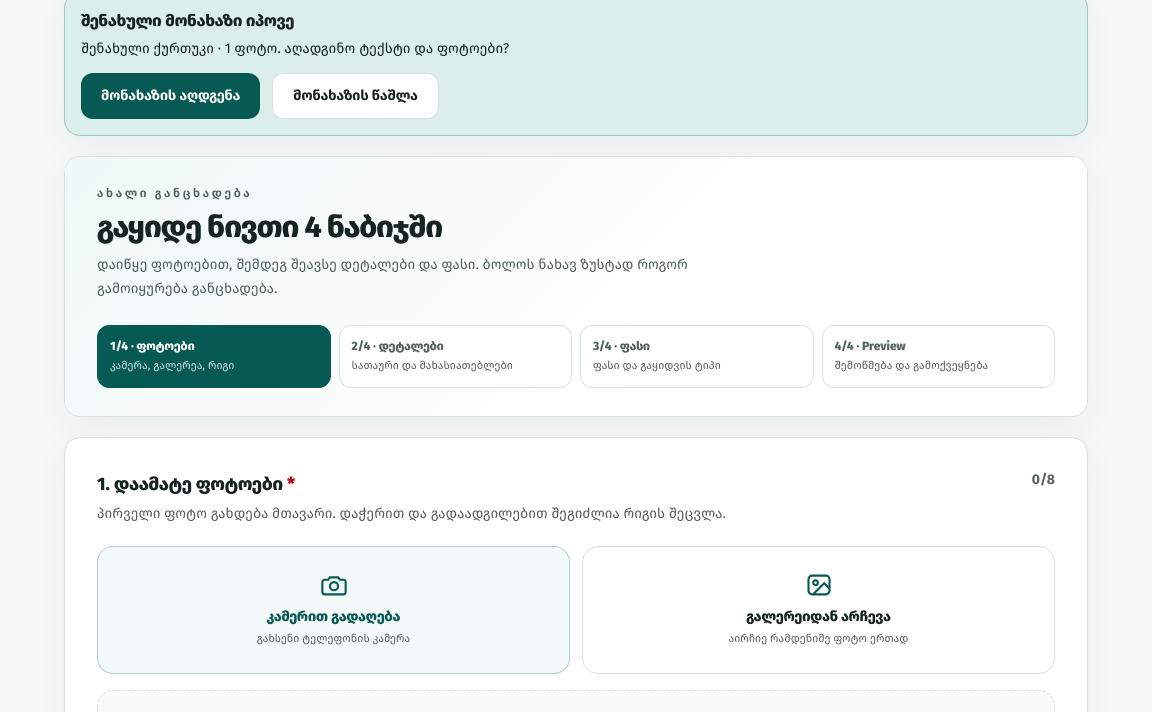
asks before restoration and restores the selected photo and text without publishing
Click the button "მონახაზის აღდგენა" at {"x": 171, "y": 96}, box [81,73,260,119]
(page scrolled)
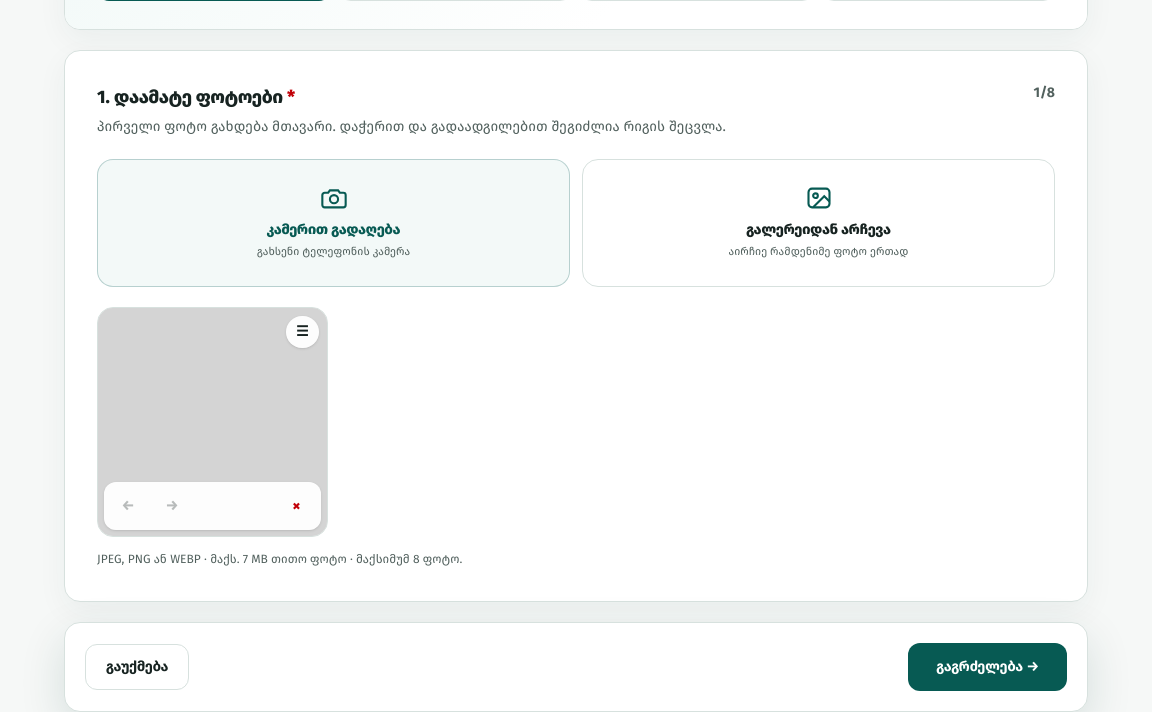
Click the button "გაგრძელება →" at {"x": 988, "y": 667}, box [908,643,1067,691]
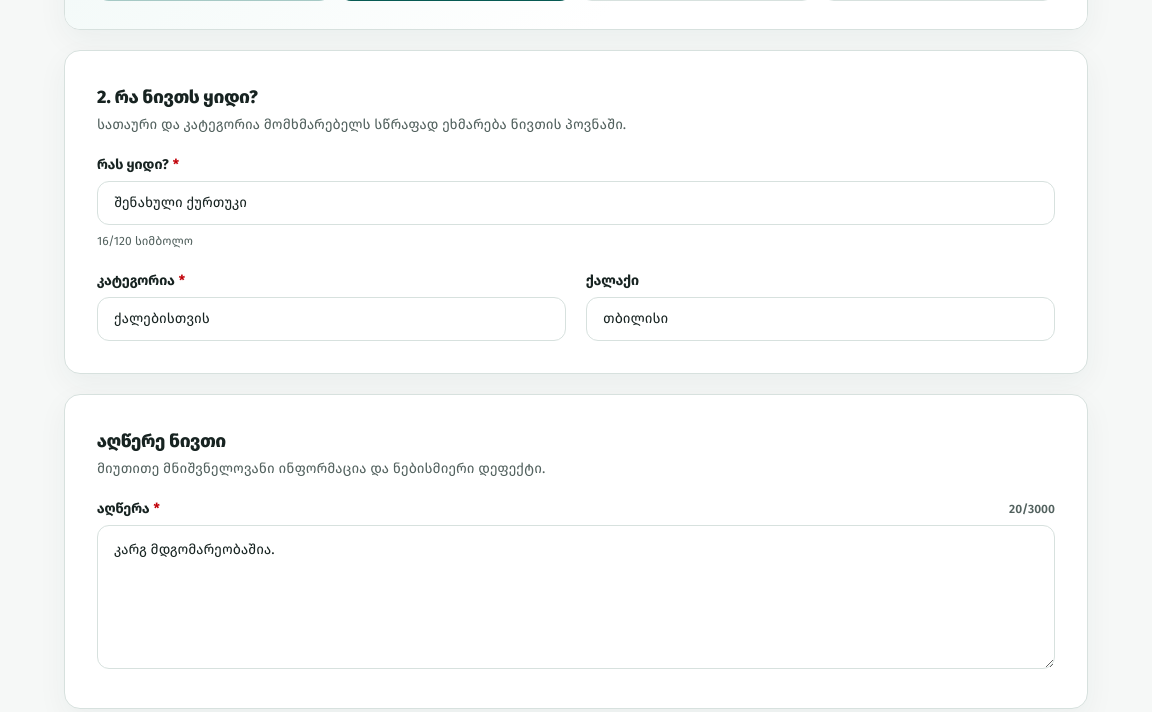
Now the field labelled "რას ყიდი?*" holds "შენახული ქურთუკი", box [97,180,1055,224]
Now the text box labelled "აღწერა*" holds "კარგ მდგომარეობაშია.", box [97,524,1055,668]
Now the dropdown labelled "კატეგორია*" shows "ქალებისთვის", box [97,296,566,340]
